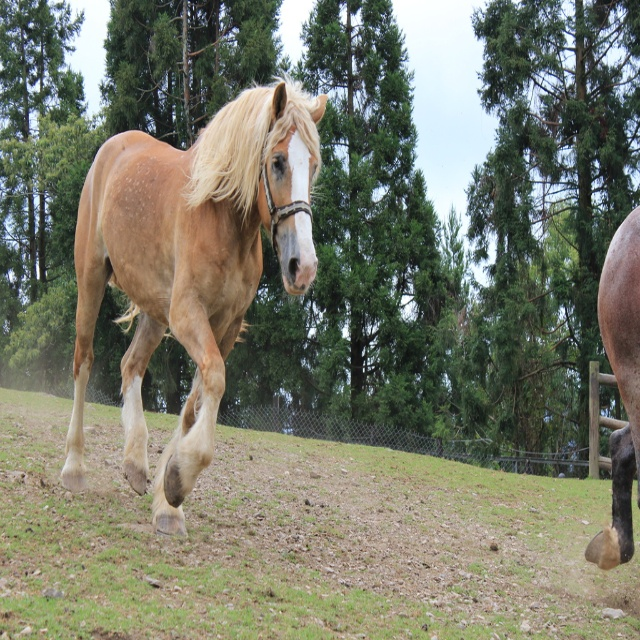Horse: (60, 67, 327, 545)
